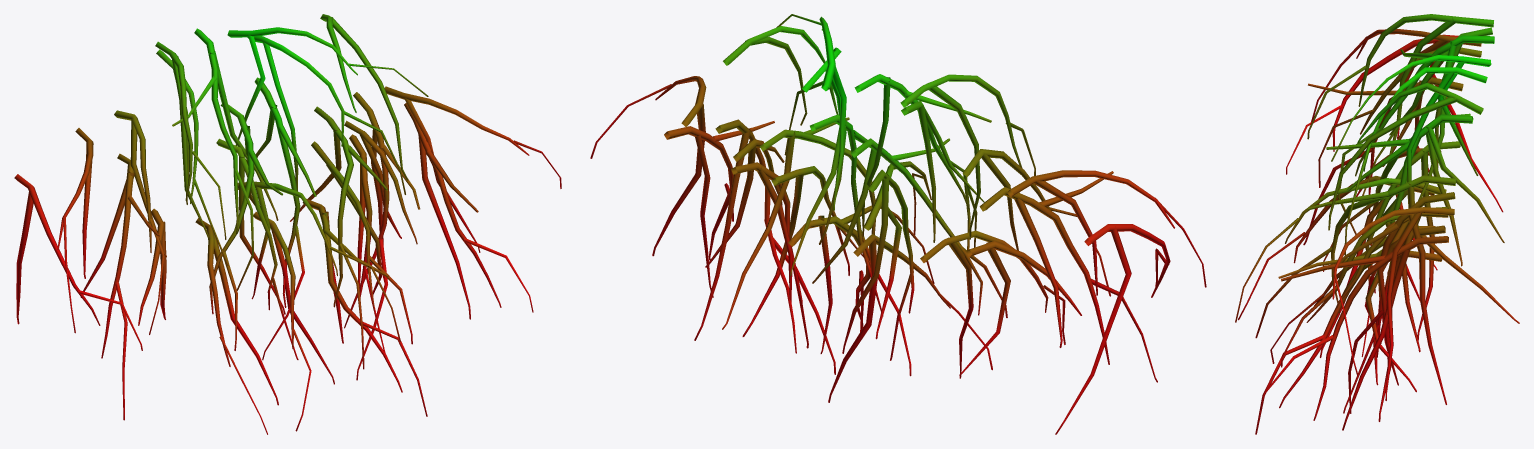
File: Var14_LOD2.fbx
3 views of the same model, side by side, from view 1: azimuth 30°, elevation 25°; view 2: azimuth 150°, elevation 25°; view 3: azimuth 270°, elevation 25° (orthographic). The views are drawn at different scales.
Visible parts, largest first — view 1: _r6gs_Var14_LOD2; view 2: _r6gs_Var14_LOD2; view 3: _r6gs_Var14_LOD2.
Boxes of the visible parts, left/top/right/bottom form: _r6gs_Var14_LOD2: left=14, top=14, right=561, bottom=434; _r6gs_Var14_LOD2: left=590, top=14, right=1206, bottom=434; _r6gs_Var14_LOD2: left=1235, top=14, right=1519, bottom=434.
Size of the model in its own units: 105 by 68 by 49.55.
